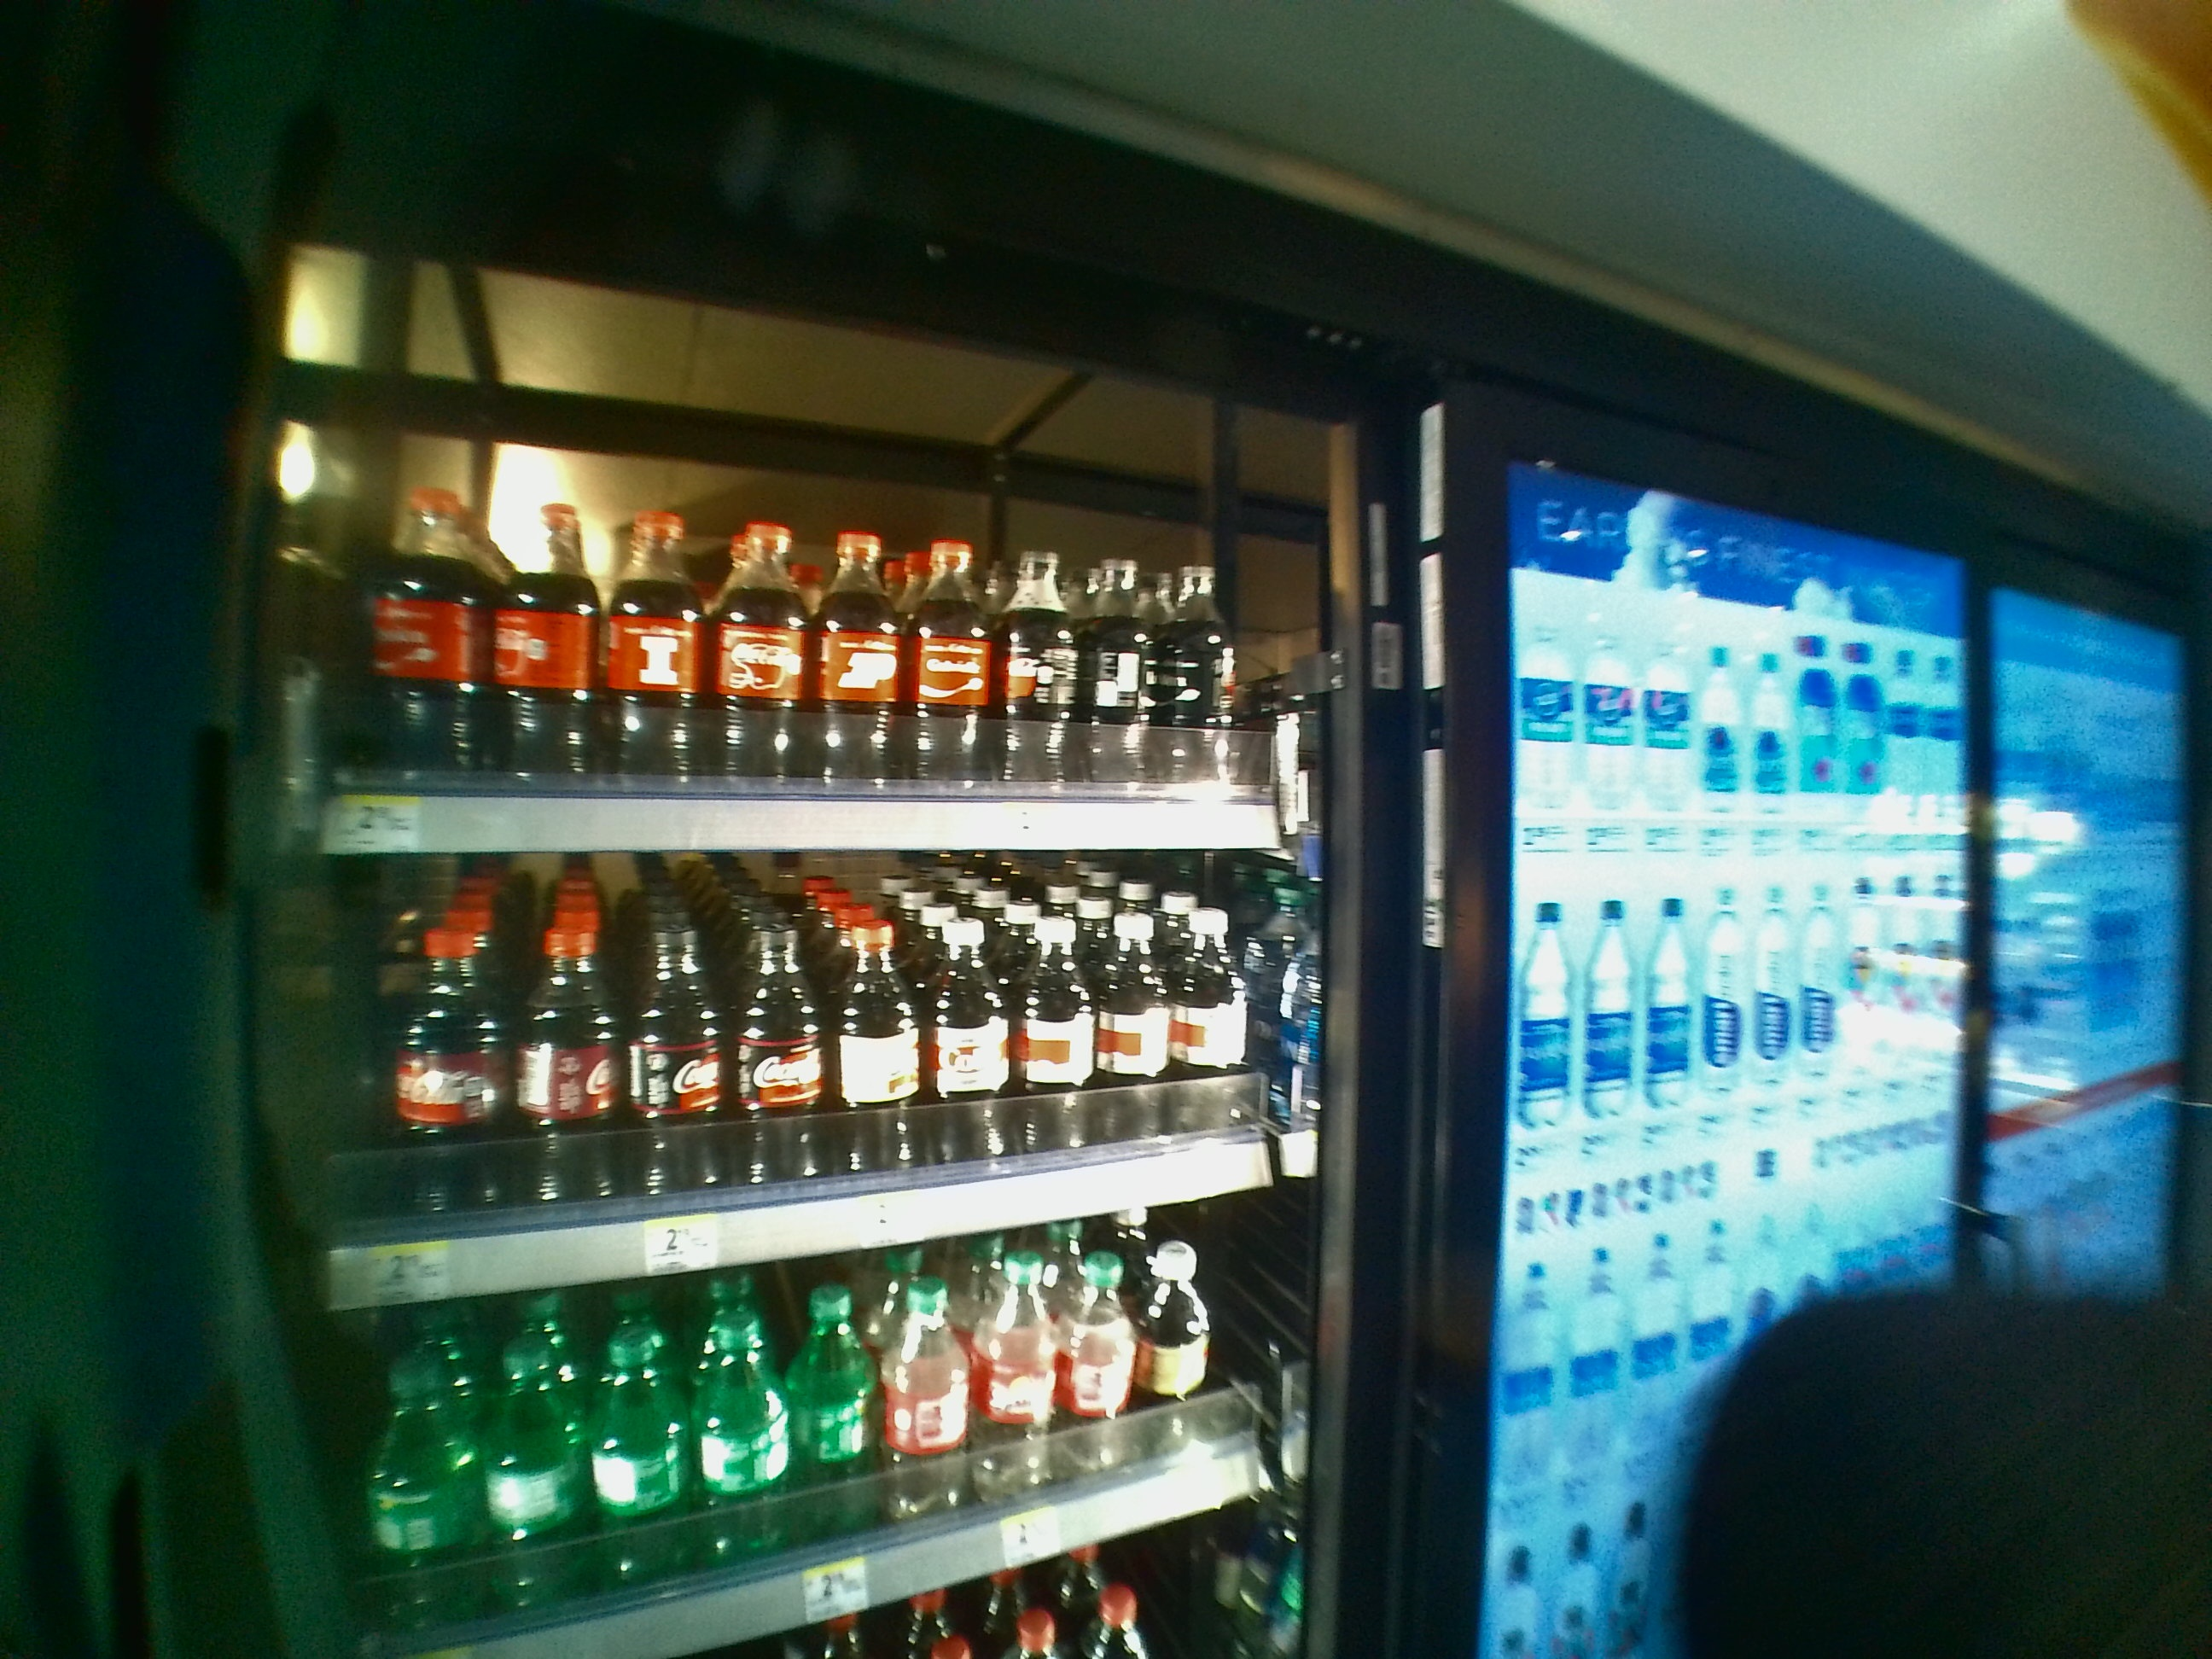shelf: (314, 340, 1320, 852), (315, 870, 1310, 1310)
